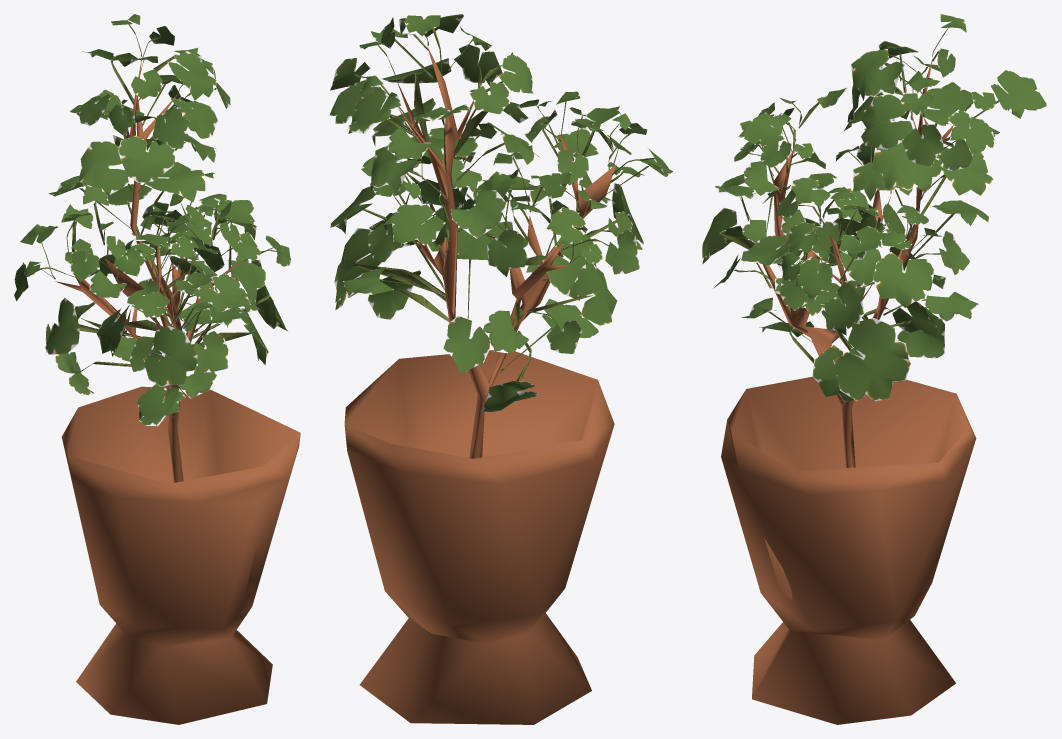
File: potted_plant_01_14k.glb
3 renders of one model, left to right at view 1: azimuth 30°, elevation 25°; view 2: azimuth 150°, elevation 25°; view 3: azimuth 270°, elevation 25°, orthographic. The views are drawn at different scales.
Visible parts, largest first — view 1: potted_plant_01_pot, potted_plant_01_leaves, potted_plant_01_stem; view 2: potted_plant_01_pot, potted_plant_01_leaves, potted_plant_01_stem; view 3: potted_plant_01_pot, potted_plant_01_leaves, potted_plant_01_stem.
Boxes of the visible parts, x1,y1,x2,y2 form: potted_plant_01_pot: (61, 386, 300, 724); potted_plant_01_leaves: (14, 14, 290, 426); potted_plant_01_stem: (55, 58, 241, 482); potted_plant_01_pot: (344, 350, 614, 724); potted_plant_01_leaves: (329, 14, 672, 412); potted_plant_01_stem: (397, 46, 616, 458); potted_plant_01_pot: (721, 376, 976, 724); potted_plant_01_leaves: (702, 14, 1047, 401); potted_plant_01_stem: (753, 58, 965, 467).
Size of the model in its own units: 0.5896 by 1.33 by 0.6311.
2 materials, 2 textured.
